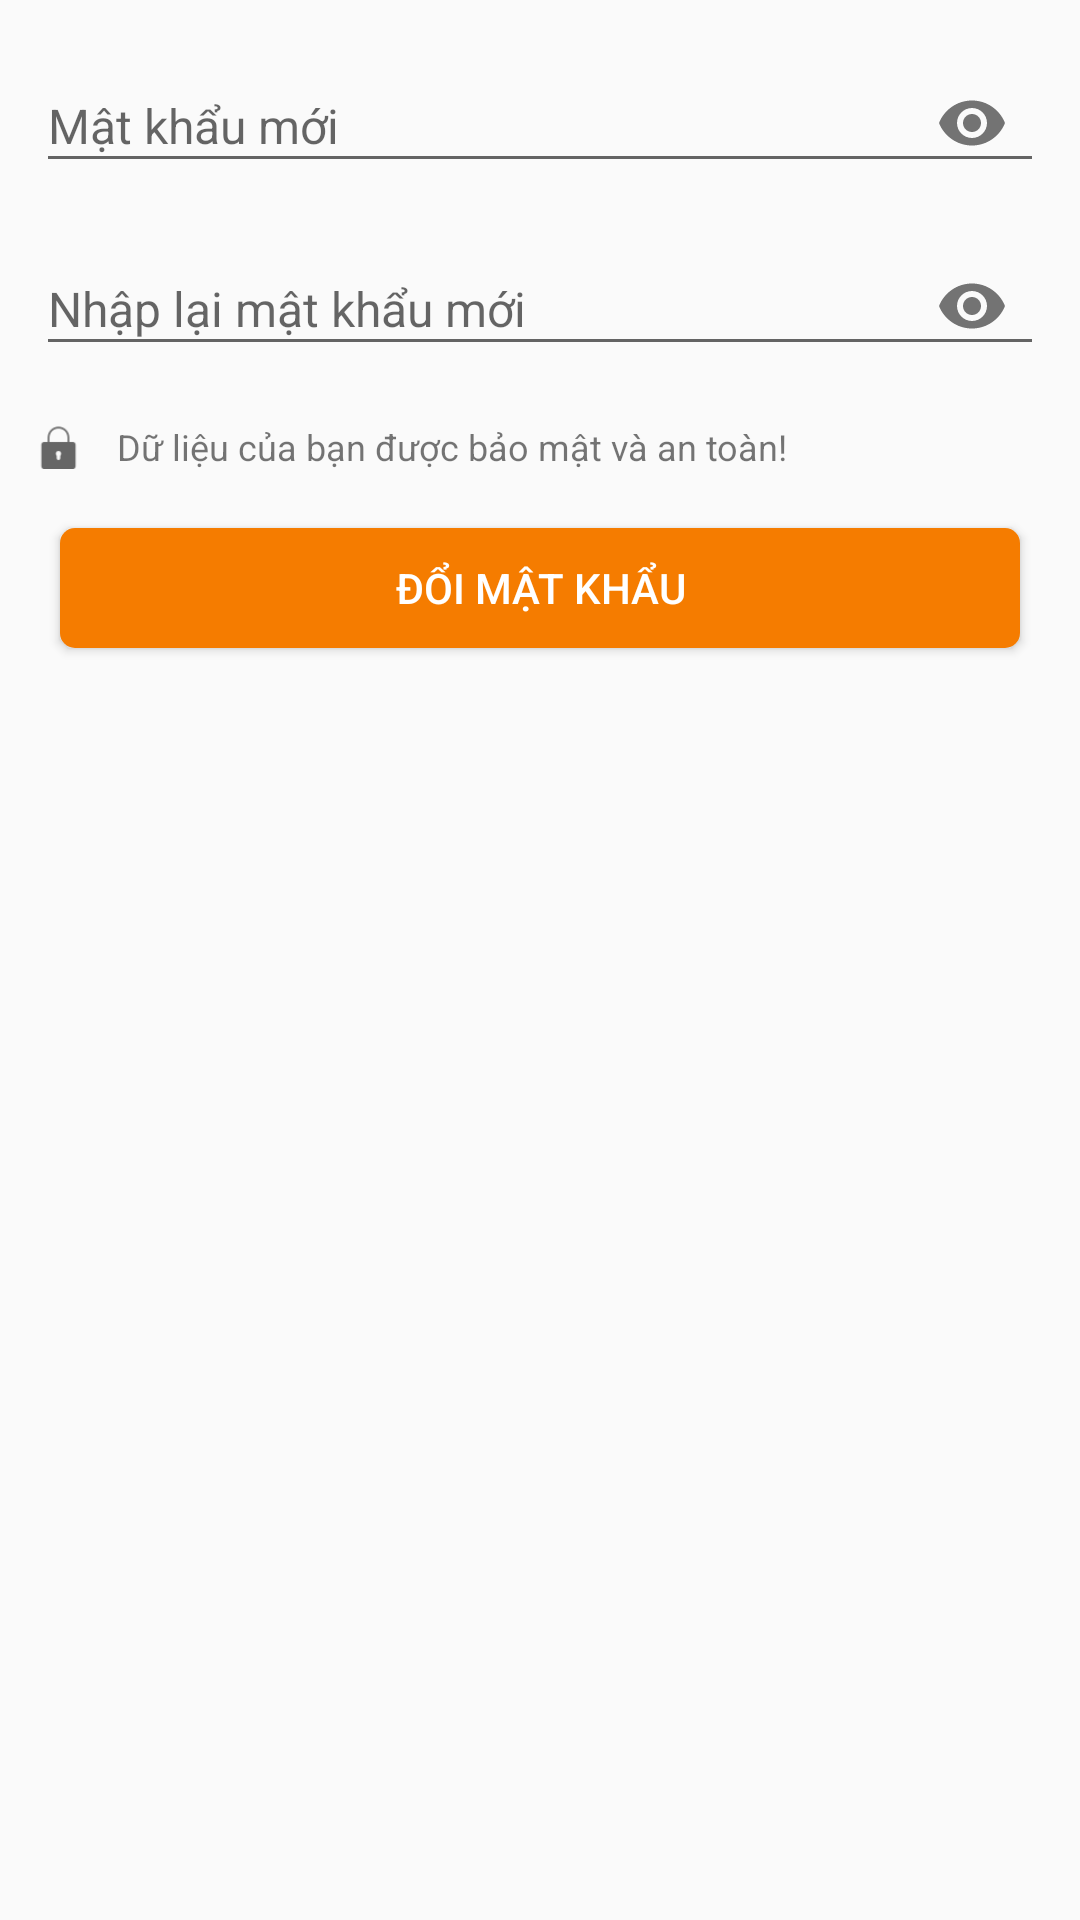

Icons on this 1080w x 1920h Android screen, each with its box as [x1,y1,x2,y2]:
lock: [41,426,76,469]
